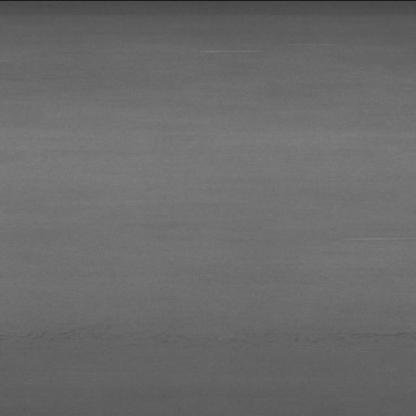silk_spot: (316, 227, 398, 255)
